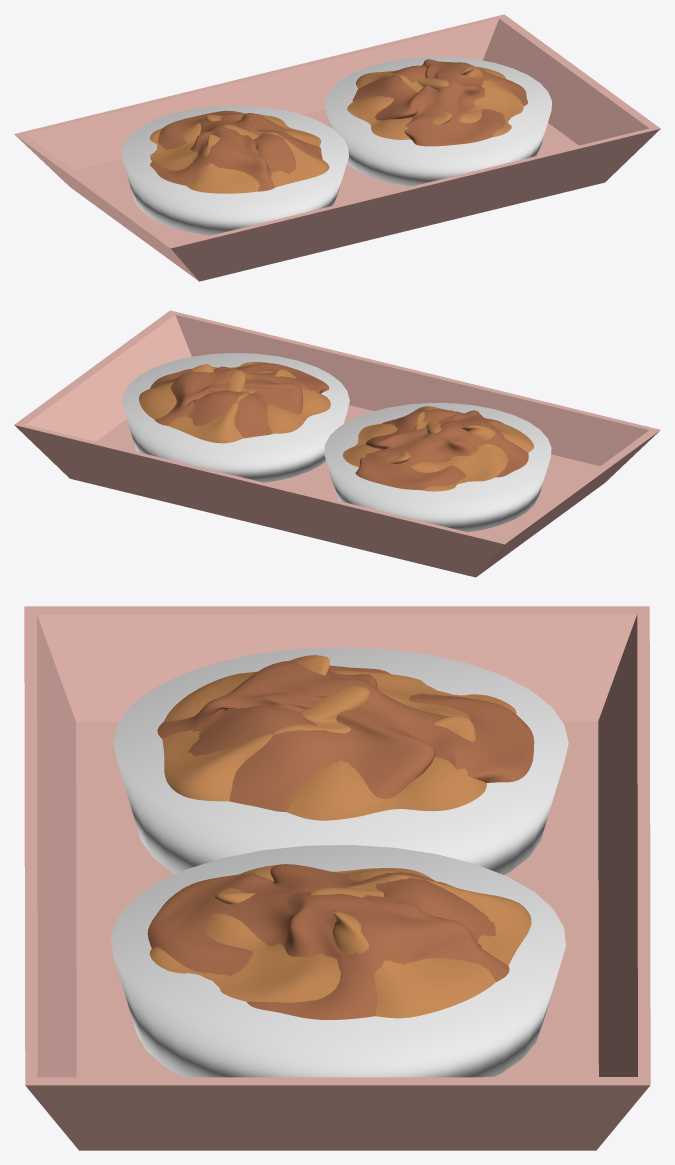
The model's file is ckEat.fbx.
The picture shows the model from 3 angles, top to bottom: view 1: azimuth 30°, elevation 25°; view 2: azimuth 150°, elevation 25°; view 3: azimuth 270°, elevation 25°; orthographic projection. The views are drawn at different scales.
Visible parts, largest first — view 1: Cube.004, Cylinder.020, Cylinder.021, Sphere.039, Sphere.004, Sphere.003, Sphere.002; view 2: Cube.004, Cylinder.020, Cylinder.021, Sphere.004, Sphere.039, Sphere.002, Sphere.003; view 3: Cube.004, Cylinder.021, Cylinder.020, Sphere.004, Sphere.039, Sphere.002, Sphere.003.
Part boxes in pixels (left/top/right/bottom): Cube.004: left=14, top=14, right=660, bottom=281; Cylinder.020: left=121, top=105, right=348, bottom=235; Cylinder.021: left=325, top=56, right=551, bottom=186; Sphere.039: left=352, top=59, right=527, bottom=146; Sphere.004: left=150, top=110, right=322, bottom=191; Sphere.003: left=149, top=114, right=329, bottom=193; Sphere.002: left=347, top=66, right=523, bottom=139; Cube.004: left=14, top=310, right=660, bottom=577; Cylinder.020: left=324, top=403, right=551, bottom=532; Cylinder.021: left=122, top=353, right=349, bottom=482; Sphere.004: left=355, top=409, right=528, bottom=490; Sphere.039: left=150, top=363, right=329, bottom=438; Sphere.002: left=139, top=362, right=330, bottom=443; Sphere.003: left=343, top=406, right=533, bottom=491; Cube.004: left=24, top=606, right=650, bottom=1150; Cylinder.021: left=111, top=845, right=565, bottom=1077; Cylinder.020: left=113, top=647, right=568, bottom=874; Sphere.004: left=157, top=660, right=534, bottom=811; Sphere.039: left=147, top=864, right=509, bottom=1019; Sphere.002: left=149, top=865, right=531, bottom=1018; Sphere.003: left=162, top=655, right=516, bottom=820.
Size of the model in its own units: 222 by 37.15 by 123.
